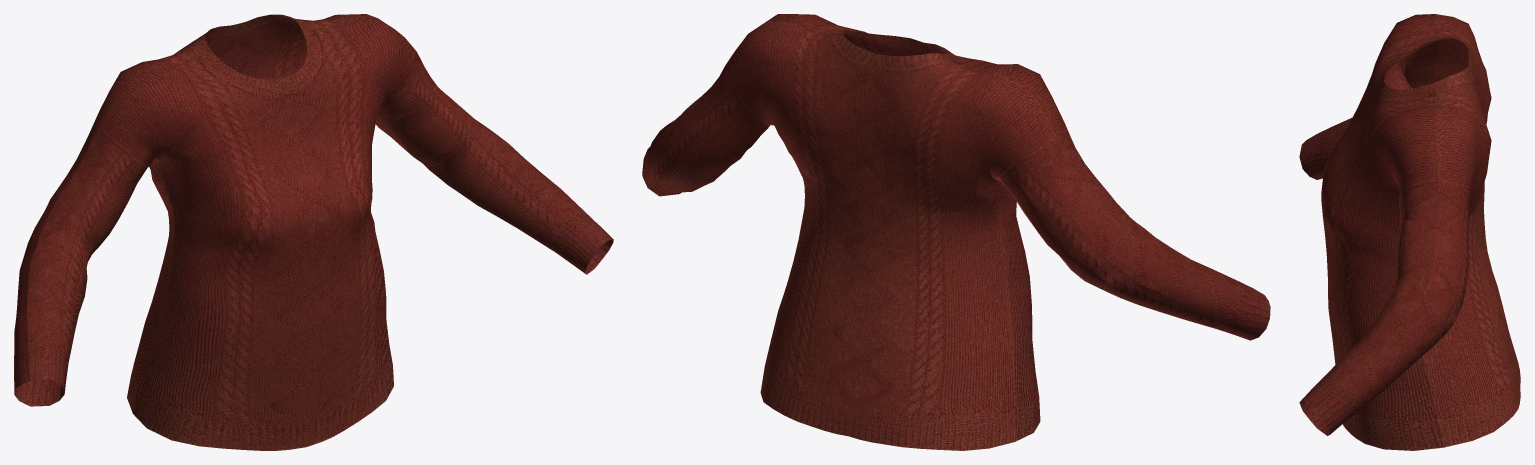
Rendered from mindfront-knitted-sweater-02.glb.
3 renders of one model, left to right at view 1: azimuth 30°, elevation 25°; view 2: azimuth 150°, elevation 25°; view 3: azimuth 270°, elevation 25°, orthographic. The views are drawn at different scales.
Parts seen in each view (by area): view 1: knitted sweater 02; view 2: knitted sweater 02; view 3: knitted sweater 02.
Boxes of the visible parts, bbox=[...] form: knitted sweater 02: bbox=[14, 14, 613, 450]; knitted sweater 02: bbox=[642, 14, 1270, 450]; knitted sweater 02: bbox=[1299, 14, 1520, 450].
Size of the model in its own units: 91.58 by 55.3 by 30.97.
1 material, 1 textured.
